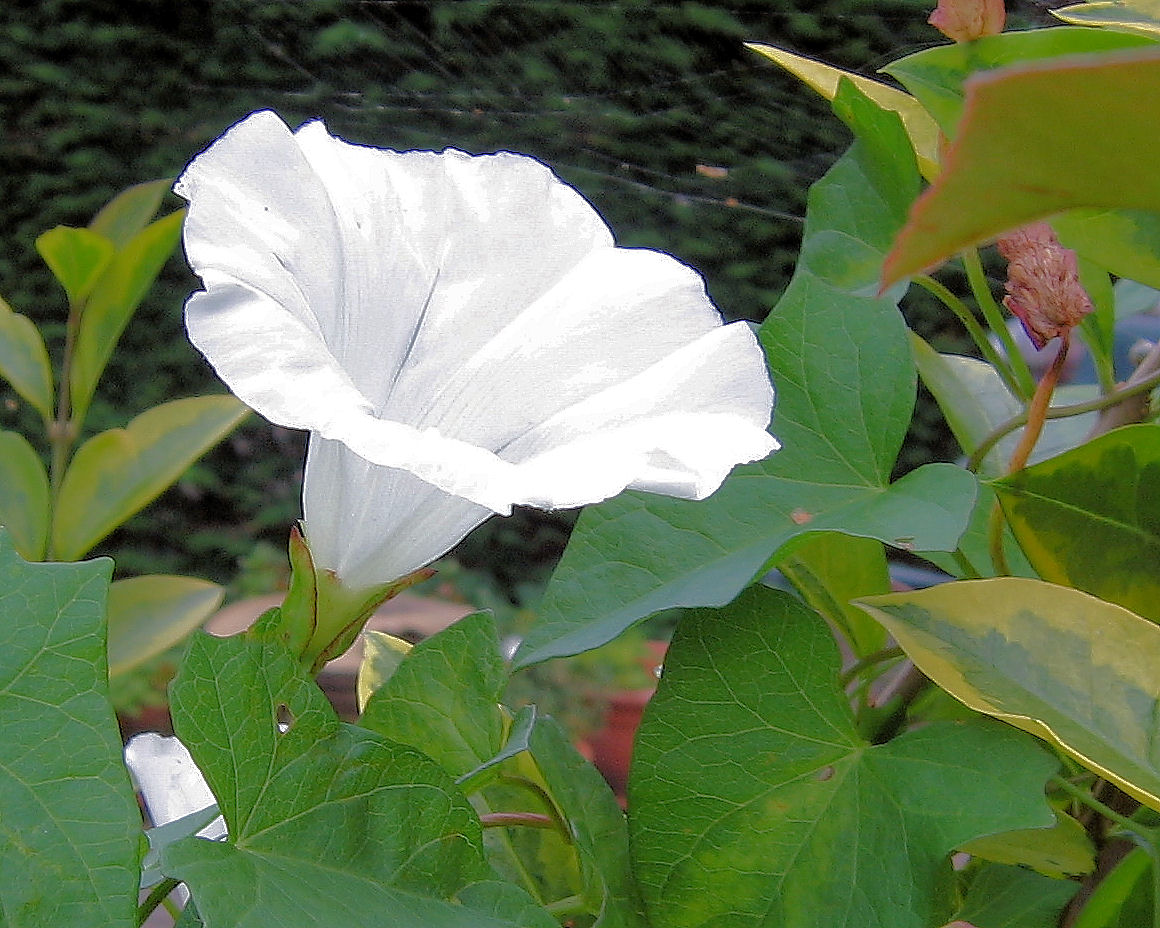haagwinde: (154, 76, 813, 684)
